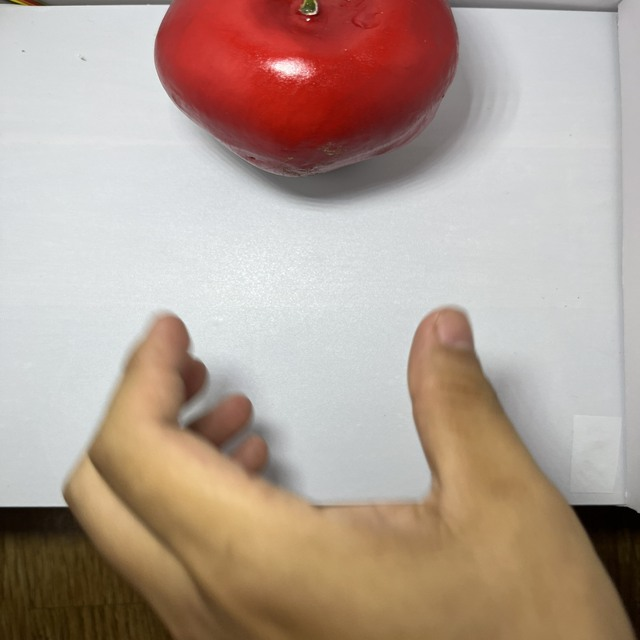Tao: (145, 0, 466, 187)
